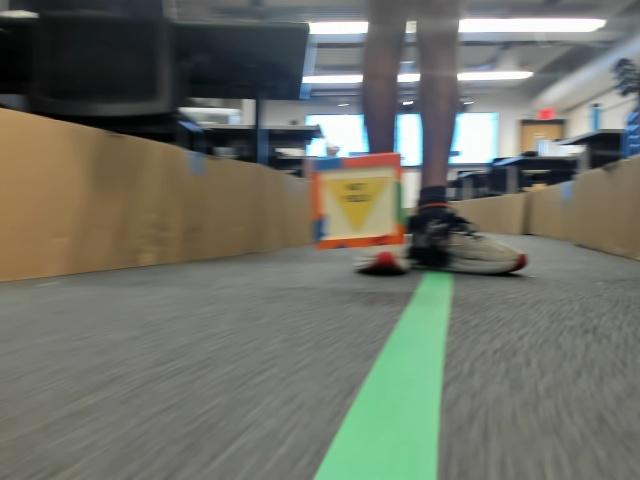Do Not Yield: (324, 180, 386, 234)
